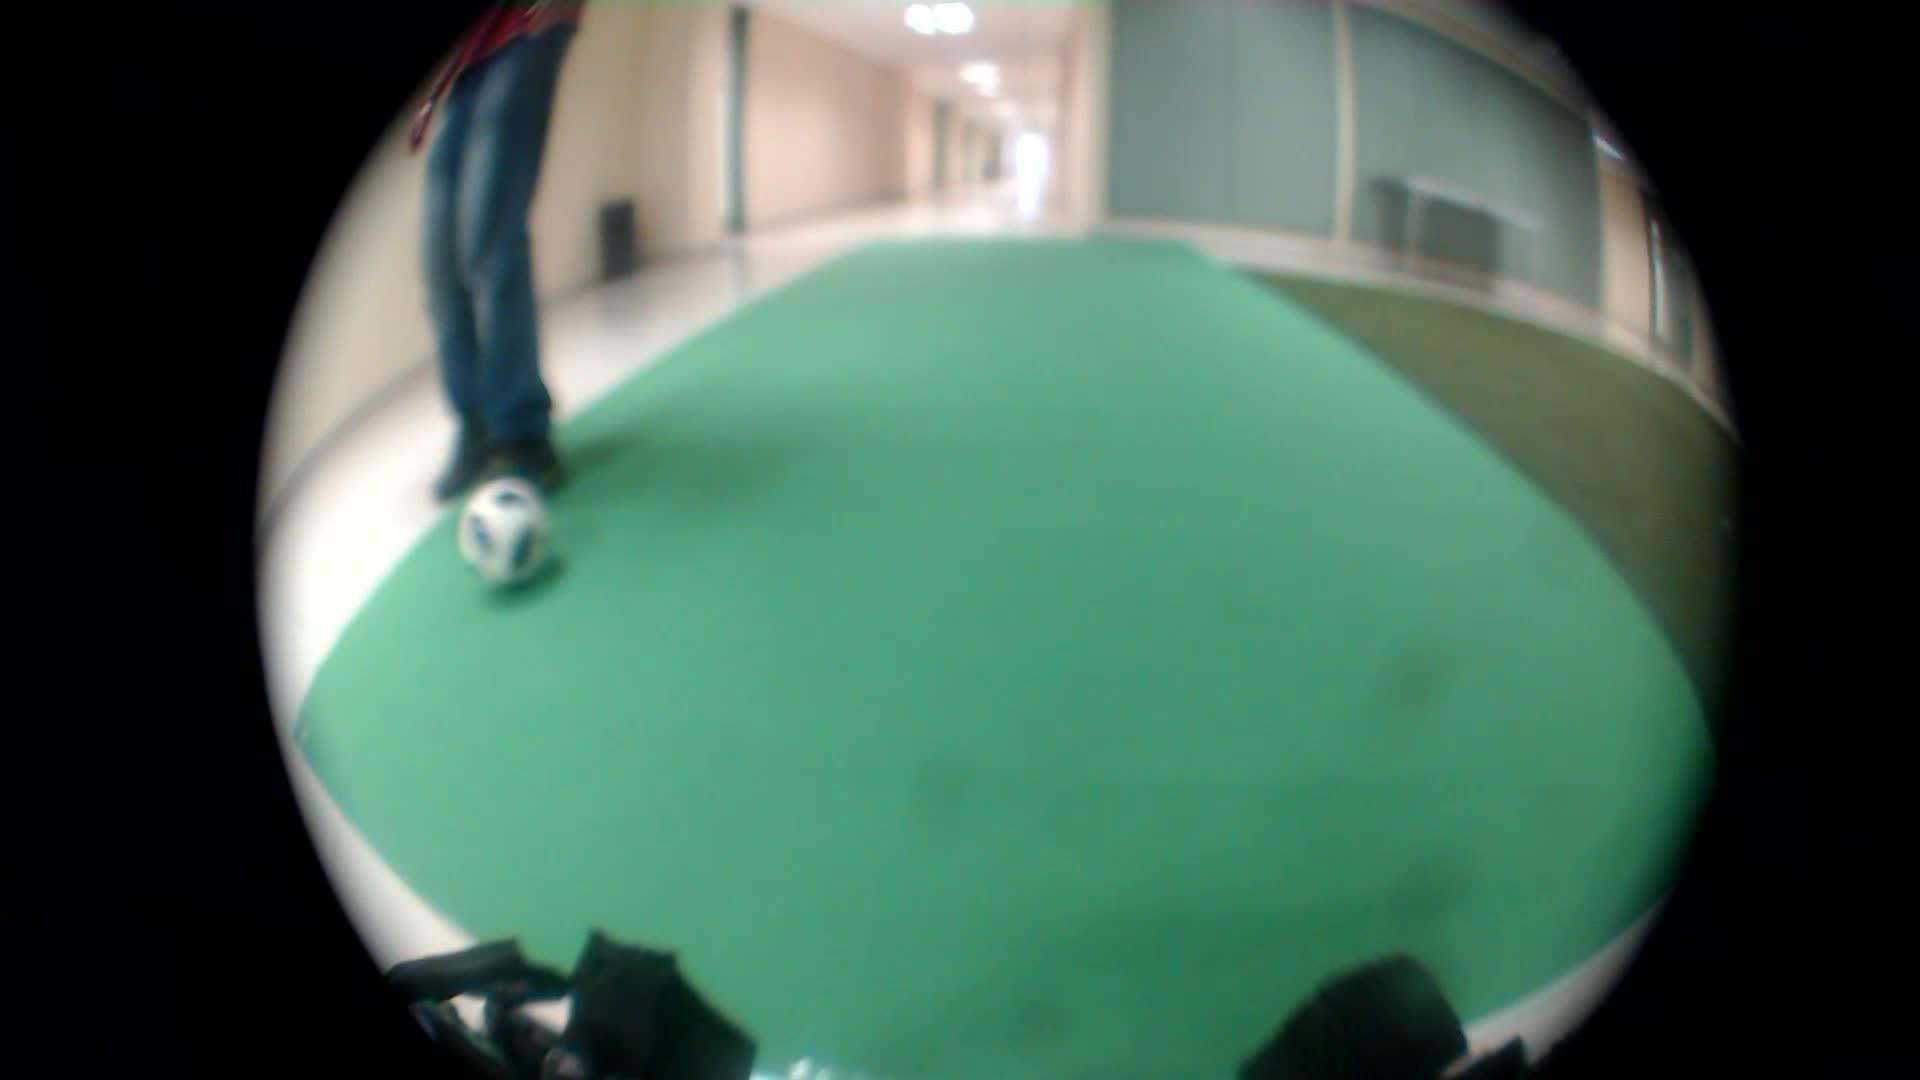ball: (438, 472, 560, 600)
